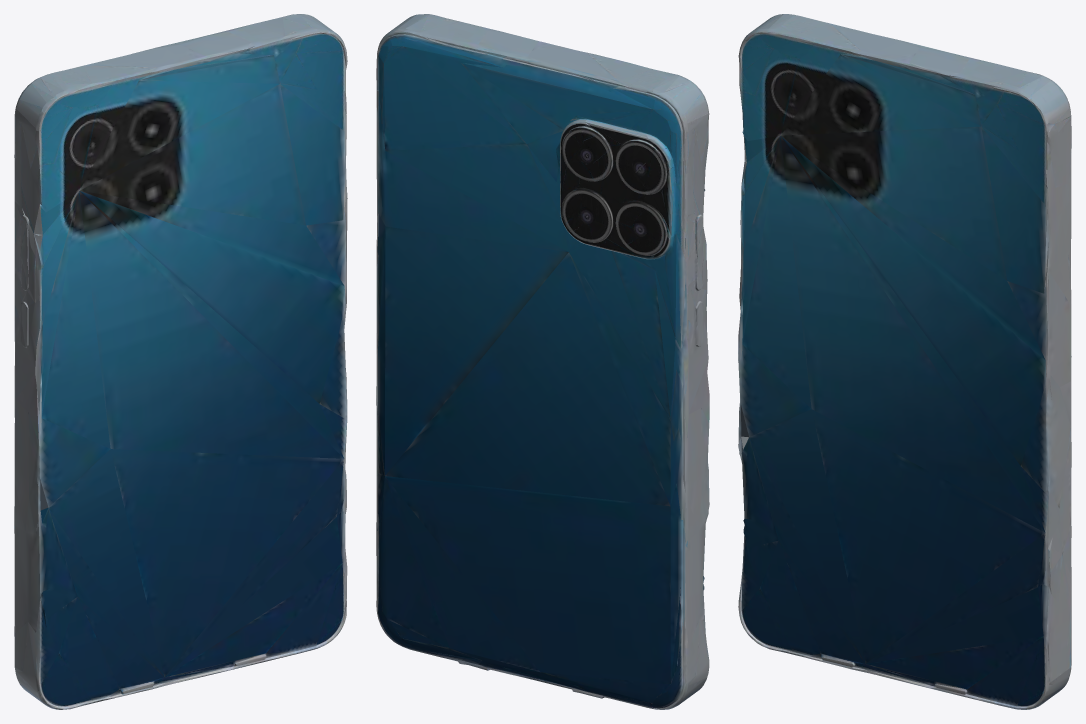
Rendered from smartphone.glb.
3 renders of one model, left to right at view 1: azimuth 30°, elevation 25°; view 2: azimuth 150°, elevation 25°; view 3: azimuth 330°, elevation 25°, orthographic.
Parts seen in each view (by area): view 1: output_unwrapped; view 2: output_unwrapped; view 3: output_unwrapped.
Boxes of the visible parts, x1,y1,x2,y2 form: output_unwrapped: (14, 14, 347, 709); output_unwrapped: (376, 14, 709, 709); output_unwrapped: (738, 14, 1071, 709).
Bounding box in the file's own units: 1.01 × 1.9 × 0.1799.
Materials: 1 (1 with a texture image).
